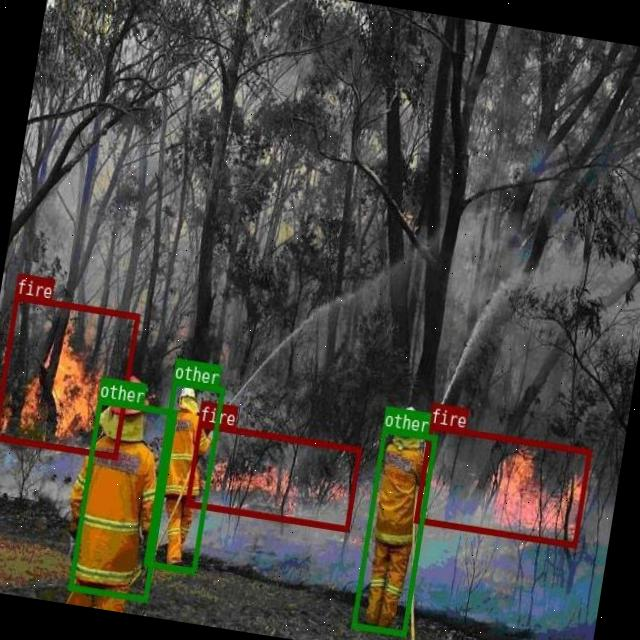fire: (0, 294, 139, 459), (414, 422, 592, 546), (184, 420, 360, 531)
